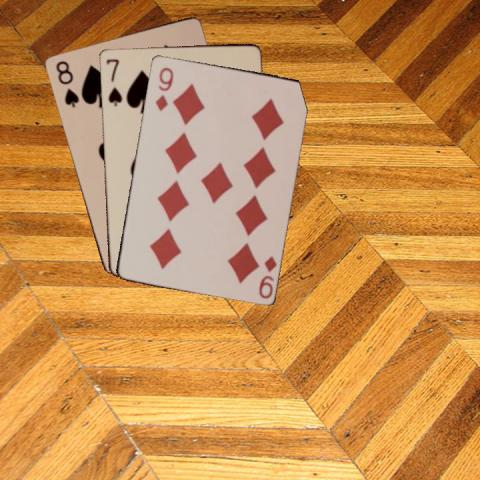7s: (103, 55, 123, 108)
8s: (52, 57, 80, 109)
9d: (152, 64, 175, 112), (255, 252, 278, 300)
